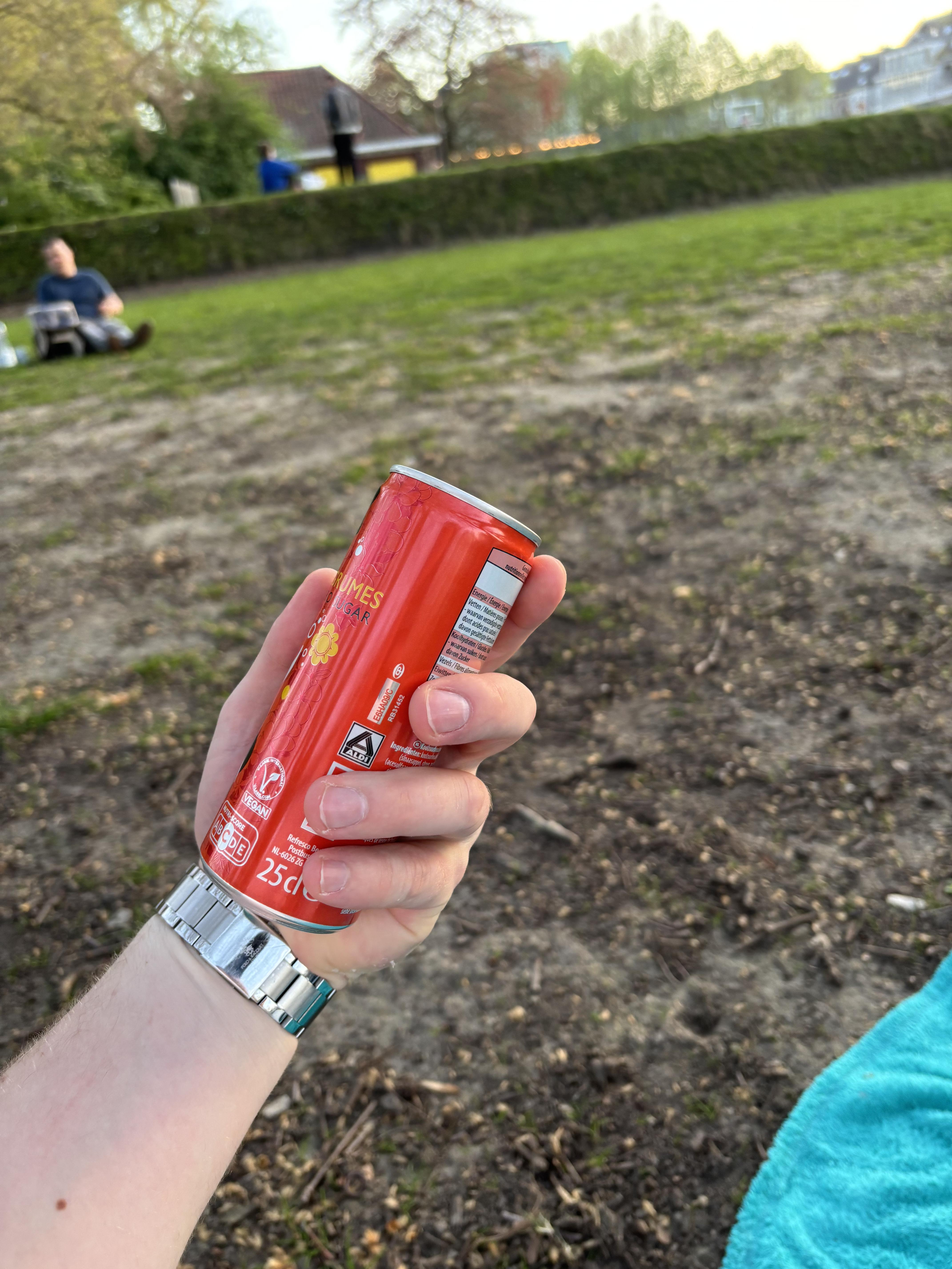Metal: (187, 471, 560, 945)
